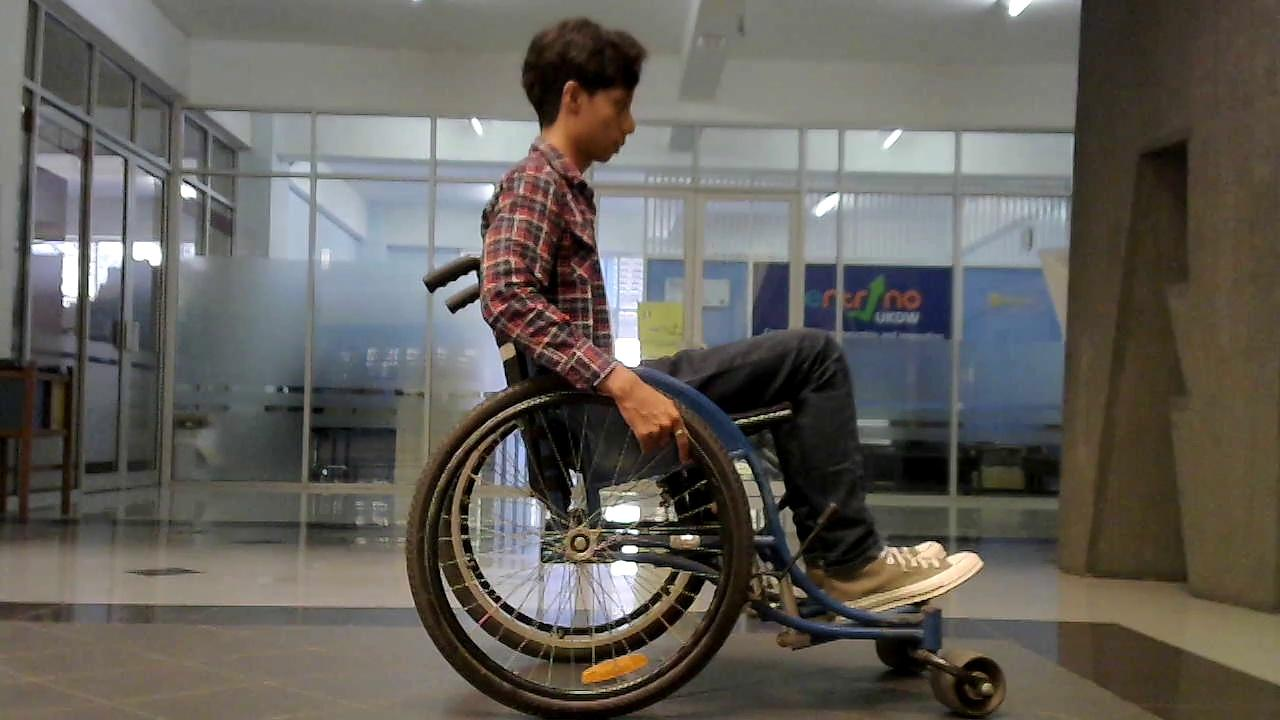person: (475, 17, 969, 618)
wheelchair: (377, 236, 1025, 720)
